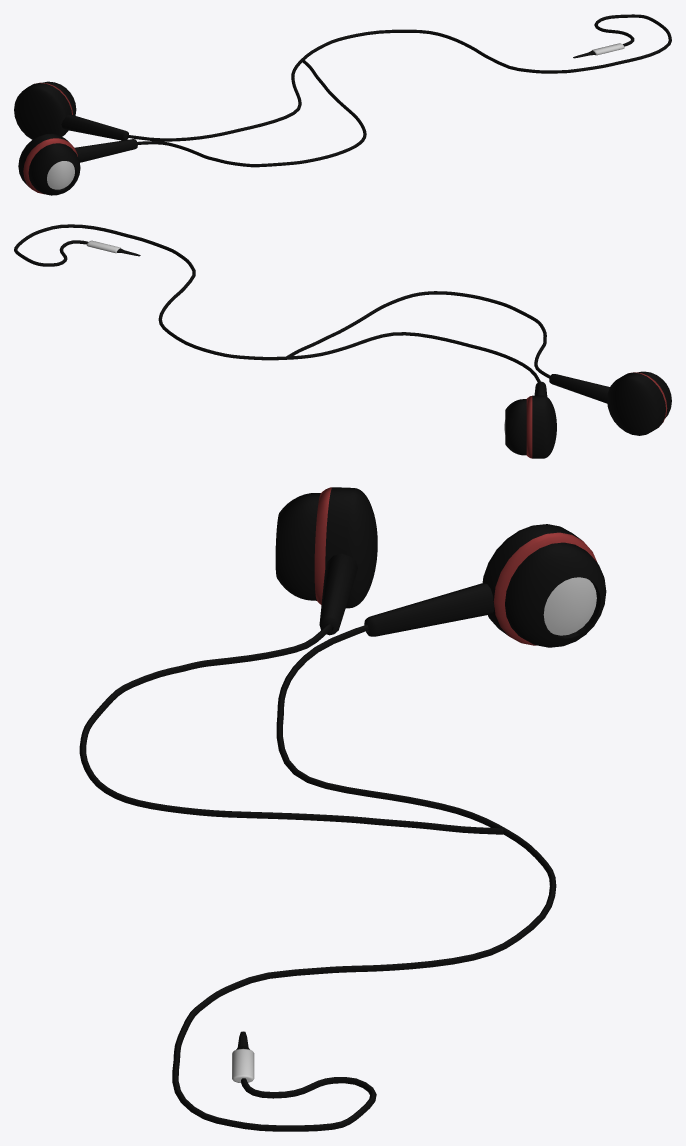
File: 5feba06e-8c21-4d6a-8e84-771f95497851.glb
3 renders of one model, top to bottom at view 1: azimuth 30°, elevation 25°; view 2: azimuth 150°, elevation 25°; view 3: azimuth 270°, elevation 25°, orthographic. The views are drawn at different scales.
Visible parts, largest first — view 1: ChamferCyl003; view 2: ChamferCyl003; view 3: ChamferCyl003.
Part boxes in pixels (box(x1,y1,x2,y2)): ChamferCyl003: box(14, 14, 671, 195); ChamferCyl003: box(14, 224, 671, 458); ChamferCyl003: box(79, 487, 606, 1131).
Bounding box in the file's own units: 43.57 × 3.86 × 15.84.
